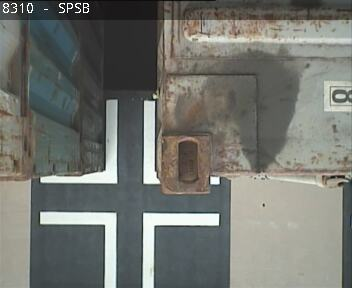groundmarker_1: (41, 210, 220, 286), (37, 98, 159, 184)
